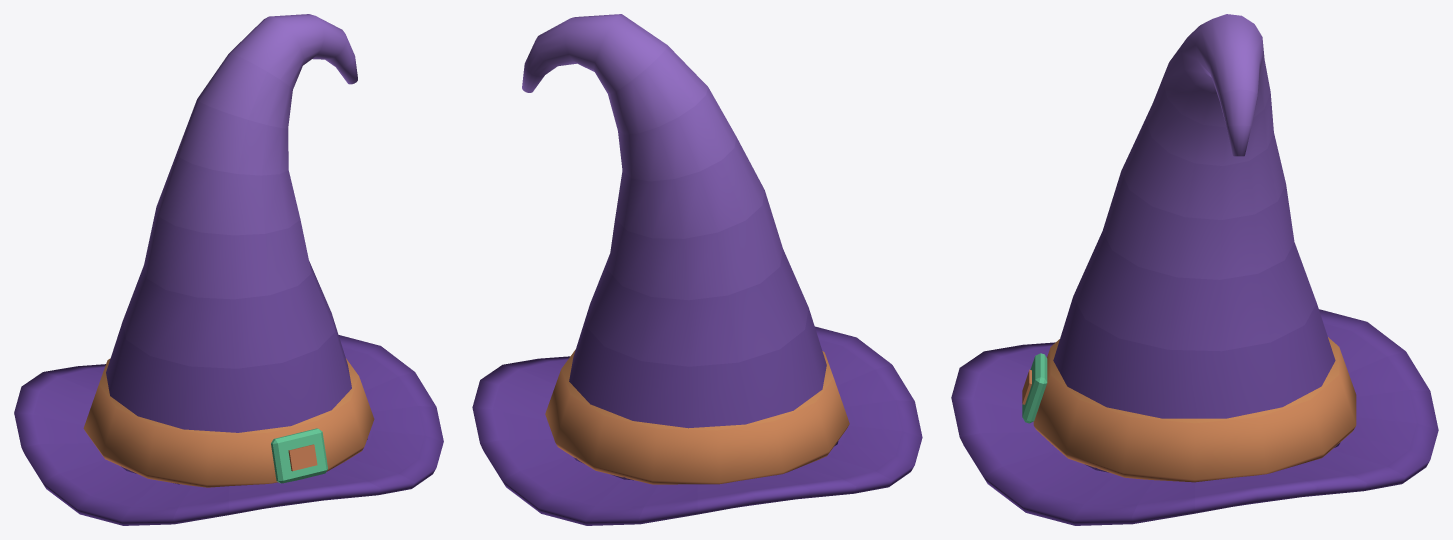
File: slime_hat_witch.fbx
3 renders of one model, left to right at view 1: azimuth 30°, elevation 25°; view 2: azimuth 150°, elevation 25°; view 3: azimuth 270°, elevation 25°, orthographic. The views are drawn at different scales.
Parts seen in each view (by area): view 1: slime_hat_witch; view 2: slime_hat_witch; view 3: slime_hat_witch.
Part boxes in pixels (<box>): slime_hat_witch: <box>14,14,443,525</box>; slime_hat_witch: <box>472,14,922,525</box>; slime_hat_witch: <box>951,14,1438,525</box>.
Size of the model in its own units: 2.24 by 2.34 by 2.24.
